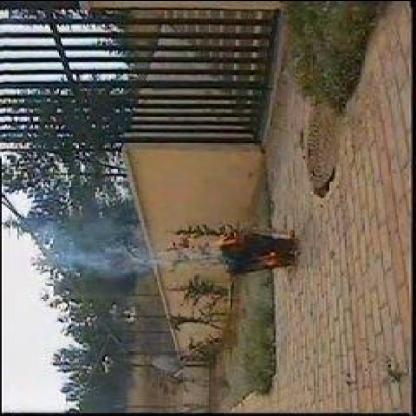-: (46, 238, 160, 276)
foggia-v2-map80-epoch100 - v1 4323: (204, 226, 248, 248)
